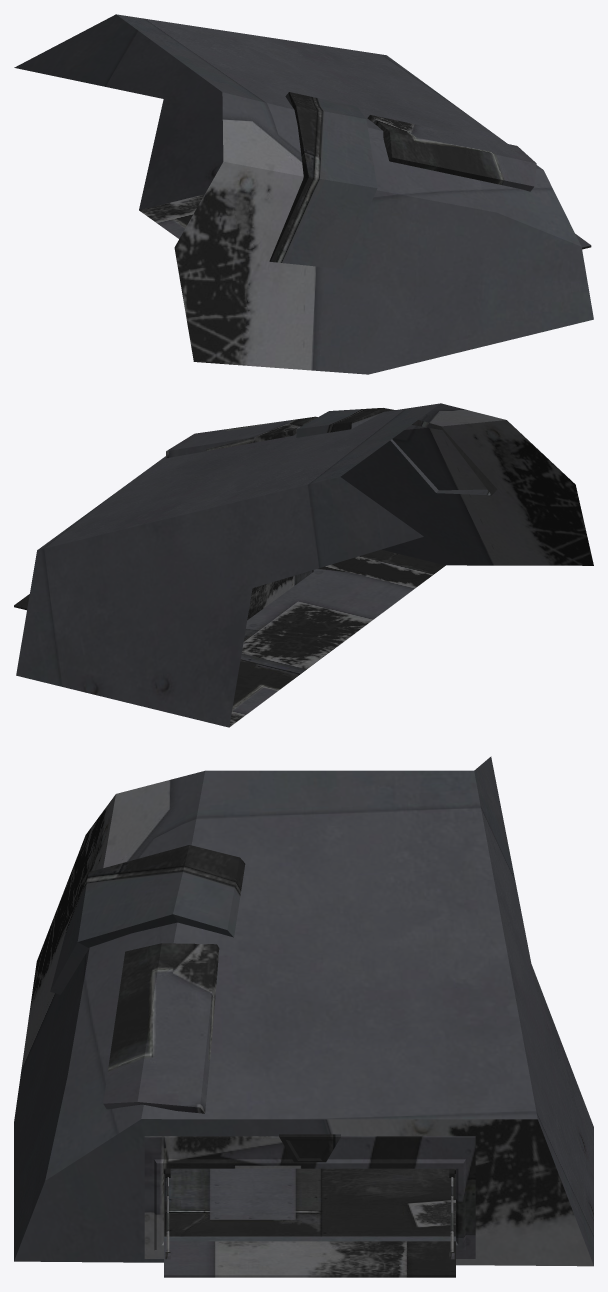
File: HCD3.fbx
The picture shows the model from 3 angles, top to bottom: view 1: azimuth 30°, elevation 25°; view 2: azimuth 150°, elevation 25°; view 3: azimuth 270°, elevation 25°; orthographic projection. The views are drawn at different scales.
Parts seen in each view (by area): view 1: threeD; view 2: threeD; view 3: threeD.
Part boxes in pixels (x1,y1,x2,y2): threeD: (14, 14, 593, 374); threeD: (14, 403, 593, 727); threeD: (14, 756, 593, 1277).
Bounding box in the file's own units: 5364 × 2836 × 4760.
Materials: 1 (1 with a texture image).
